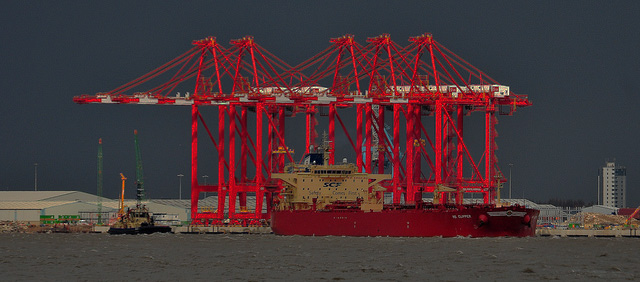tanker: (275, 136, 538, 246)
tug_boat: (105, 185, 172, 235)
